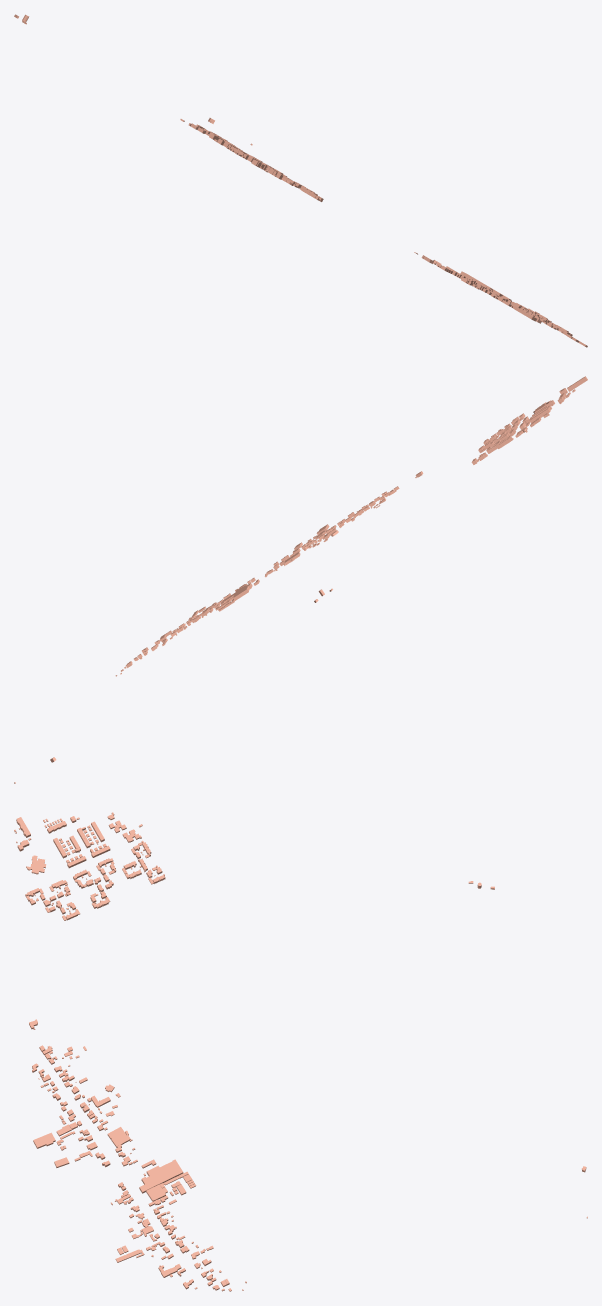
3 renders of one model, top to bottom at view 1: azimuth 30°, elevation 25°; view 2: azimuth 150°, elevation 25°; view 3: azimuth 270°, elevation 25°, orthographic. The views are drawn at different scales.
Bounding box in the file's own units: 939 × 738 × 1271.
